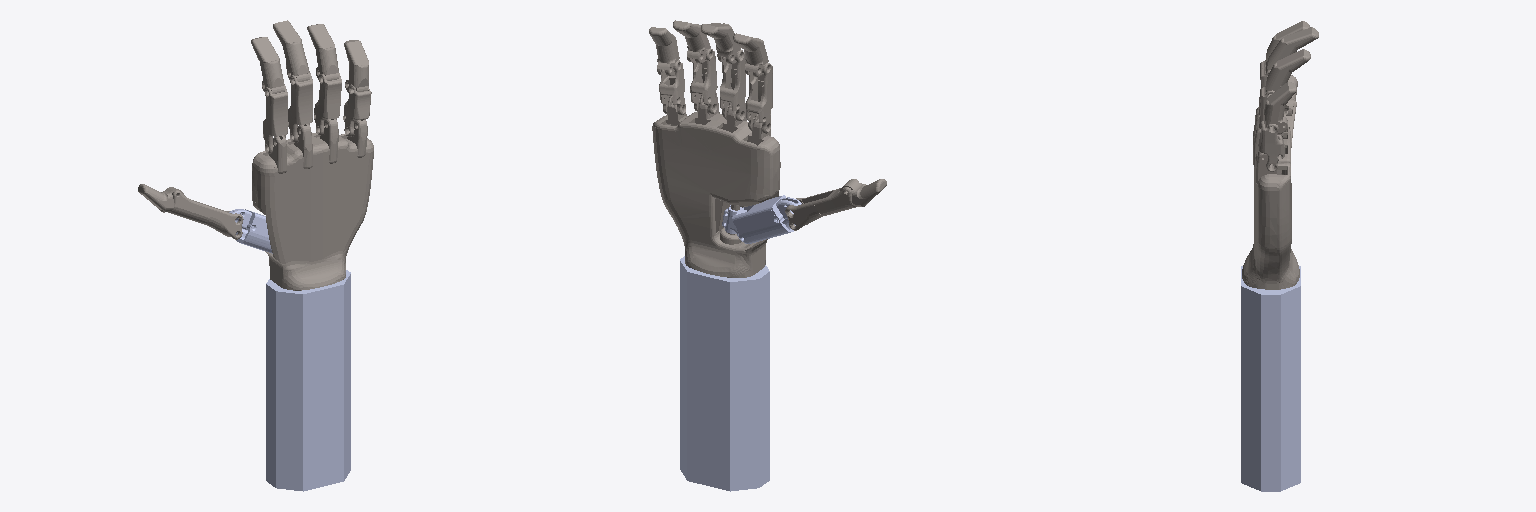
robot.urdf — EZARM_SLDASM:
<?xml version="1.0" encoding="utf-8"?>
<!-- This URDF was automatically created by SolidWorks to URDF Exporter! Originally created by [author] ([email redacted]) 
     Commit Version: 1.6.0-4-g7f85cfe  Build Version: 1.6.7995.38578
     For more information, please see http://wiki.ros.org/sw_urdf_exporter -->
<robot
  name="EZARM_SLDASM">
  <link
    name="base_link">
    <inertial>
      <origin
        xyz="-2.36122762587781E-18 -3.93537937646302E-19 0.0815294256931801"
        rpy="0 0 0" />
      <mass
        value="0.403566371669411" />
      <inertia
        ixx="0.000951289819173348"
        ixy="-1.07533479631894E-19"
        ixz="-5.25984835922691E-20"
        iyy="0.00100569106917335"
        iyz="-8.08622793432171E-21"
        izz="0.000168552823672512" />
    </inertial>
    <visual>
      <origin
        xyz="0 0 0"
        rpy="0 0 0" />
      <geometry>
        <mesh
          filename="package://EZARM_SLDASM/meshes/base_link.STL" />
      </geometry>
      <material
        name="">
        <color
          rgba="0.792156862745098 0.819607843137255 0.933333333333333 1" />
      </material>
    </visual>
    <collision>
      <origin
        xyz="0 0 0"
        rpy="0 0 0" />
      <geometry>
        <mesh
          filename="package://EZARM_SLDASM/meshes/base_link.STL" />
      </geometry>
    </collision>
  </link>
  <link
    name="palm_link">
    <inertial>
      <origin
        xyz="0.000137638473861338 -0.00428767568752875 0.0545058625065118"
        rpy="0 0 0" />
      <mass
        value="0.0765362216961075" />
      <inertia
        ixx="0.000161080254530765"
        ixy="5.25642766934462E-08"
        ixz="-1.1122683473908E-06"
        iyy="0.000115373426183941"
        iyz="4.62313329070689E-06"
        izz="4.92288030967418E-05" />
    </inertial>
    <visual>
      <origin
        xyz="0 0 0"
        rpy="0 0 0" />
      <geometry>
        <mesh
          filename="package://EZARM_SLDASM/meshes/palm_link.STL" />
      </geometry>
      <material
        name="">
        <color
          rgba="0.647058823529412 0.619607843137255 0.6 1" />
      </material>
    </visual>
    <collision>
      <origin
        xyz="0 0 0"
        rpy="0 0 0" />
      <geometry>
        <mesh
          filename="package://EZARM_SLDASM/meshes/palm_link.STL" />
      </geometry>
    </collision>
  </link>
  <joint
    name="palm_joint"
    type="revolute">
    <origin
      xyz="0 0 0.168"
      rpy="0 0 1.5708" />
    <parent
      link="base_link" />
    <child
      link="palm_link" />
    <axis
      xyz="0 0 1" />
    <limit
      lower="0"
      upper="3.14159"
      effort="100"
      velocity="100" />
  </joint>
  <link
    name="pinky_link">
    <inertial>
      <origin
        xyz="0.0017820549626365 -0.000613293176069961 0.0163336690442433"
        rpy="0 0 0" />
      <mass
        value="0.00284841498916435" />
      <inertia
        ixx="2.89069230552967E-07"
        ixy="2.30953150442523E-09"
        ixz="-1.78553709799799E-08"
        iyy="2.99964229191471E-07"
        iyz="2.91987211415557E-08"
        izz="1.49822130411684E-07" />
    </inertial>
    <visual>
      <origin
        xyz="0 0 0"
        rpy="0 0 0" />
      <geometry>
        <mesh
          filename="package://EZARM_SLDASM/meshes/pinky_link.STL" />
      </geometry>
      <material
        name="">
        <color
          rgba="0.647058823529412 0.619607843137255 0.6 1" />
      </material>
    </visual>
    <collision>
      <origin
        xyz="0 0 0"
        rpy="0 0 0" />
      <geometry>
        <mesh
          filename="package://EZARM_SLDASM/meshes/pinky_link.STL" />
      </geometry>
    </collision>
  </link>
  <joint
    name="pinky_joint"
    type="revolute">
    <origin
      xyz="0.00053238 -0.04071 0.10826"
      rpy="0 0 -1.5708" />
    <parent
      link="palm_link" />
    <child
      link="pinky_link" />
    <axis
      xyz="1 0 0" />
    <limit
      lower="-1.5708"
      upper="0"
      effort="100"
      velocity="100" />
  </joint>
  <link
    name="pinky_mimic_link">
    <inertial>
      <origin
        xyz="0.001108703721593 0.0045741665917135 0.014620949600652"
        rpy="0 0 0" />
      <mass
        value="0.00562690939472701" />
      <inertia
        ixx="7.101549995922E-07"
        ixy="-9.17469905740974E-09"
        ixz="-3.71039596021405E-08"
        iyy="6.30896238954216E-07"
        iyz="-1.56604741692031E-07"
        izz="2.30295778229682E-07" />
    </inertial>
    <visual>
      <origin
        xyz="0 0 0"
        rpy="0 0 0" />
      <geometry>
        <mesh
          filename="package://EZARM_SLDASM/meshes/pinky_mimic_link.STL" />
      </geometry>
      <material
        name="">
        <color
          rgba="0.647058823529412 0.619607843137255 0.6 1" />
      </material>
    </visual>
    <collision>
      <origin
        xyz="0 0 0"
        rpy="0 0 0" />
      <geometry>
        <mesh
          filename="package://EZARM_SLDASM/meshes/pinky_mimic_link.STL" />
      </geometry>
    </collision>
  </link>
  <joint
    name="pinky_mimic_joint"
    type="revolute">
    <origin
      xyz="0.0034275 0.00025066 0.032821"
      rpy="0 0 0" />
    <parent
      link="pinky_link" />
    <child
      link="pinky_mimic_link" />
    <axis
      xyz="1 0 0" />
    <limit
      lower="-3.14159"
      upper="3.14159"
      effort="100"
      velocity="100" />
    <mimic
      joint="pinky_joint"
      multiplier="1"
      offset="0" />
  </joint>
  <link
    name="ring_link">
    <inertial>
      <origin
        xyz="0.00142294173005185 -0.00129072154615227 0.0203579955343289"
        rpy="0 0 0" />
      <mass
        value="0.00382261211395928" />
      <inertia
        ixx="5.5202198701161E-07"
        ixy="5.14714557279812E-09"
        ixz="-2.55389597661868E-08"
        iyy="5.69468033035362E-07"
        iyz="7.35455548545626E-08"
        izz="1.87705913426682E-07" />
    </inertial>
    <visual>
      <origin
        xyz="0 0 0"
        rpy="0 0 0" />
      <geometry>
        <mesh
          filename="package://EZARM_SLDASM/meshes/ring_link.STL" />
      </geometry>
      <material
        name="">
        <color
          rgba="0.647058823529412 0.619607843137255 0.6 1" />
      </material>
    </visual>
    <collision>
      <origin
        xyz="0 0 0"
        rpy="0 0 0" />
      <geometry>
        <mesh
          filename="package://EZARM_SLDASM/meshes/ring_link.STL" />
      </geometry>
    </collision>
  </link>
  <joint
    name="ring_joint"
    type="revolute">
    <origin
      xyz="0.00016823 -0.01558 0.11536"
      rpy="0 0 -1.5708" />
    <parent
      link="palm_link" />
    <child
      link="ring_link" />
    <axis
      xyz="1 0 0" />
    <limit
      lower="-1.48353"
      upper="0"
      effort="100"
      velocity="100" />
  </joint>
  <link
    name="ring_mimic_link">
    <inertial>
      <origin
        xyz="0.00114593130837312 0.00971703582685566 0.0156976568866269"
        rpy="0 0 0" />
      <mass
        value="0.00635546550003613" />
      <inertia
        ixx="9.81246469917228E-07"
        ixy="-2.51179183410803E-08"
        ixz="-3.63935893335392E-08"
        iyy="6.8606976657274E-07"
        iyz="-3.59092627396867E-07"
        izz="4.6569199688549E-07" />
    </inertial>
    <visual>
      <origin
        xyz="0 0 0"
        rpy="0 0 0" />
      <geometry>
        <mesh
          filename="package://EZARM_SLDASM/meshes/ring_mimic_link.STL" />
      </geometry>
      <material
        name="">
        <color
          rgba="0.647058823529412 0.619607843137255 0.6 1" />
      </material>
    </visual>
    <collision>
      <origin
        xyz="0 0 0"
        rpy="0 0 0" />
      <geometry>
        <mesh
          filename="package://EZARM_SLDASM/meshes/ring_mimic_link.STL" />
      </geometry>
    </collision>
  </link>
  <joint
    name="ring_mimic_joint"
    type="revolute">
    <origin
      xyz="0.00286 0 0.0409"
      rpy="0 0 0" />
    <parent
      link="ring_link" />
    <child
      link="ring_mimic_link" />
    <axis
      xyz="1 0 0" />
    <limit
      lower="-3.14159"
      upper="3.14159"
      effort="100"
      velocity="100" />
    <mimic
      joint="ring_joint"
      multiplier="1"
      offset="0" />
  </joint>
  <link
    name="middle_link">
    <inertial>
      <origin
        xyz="0.00040561519406054 -0.00143109939675033 0.0232048672174193"
        rpy="0 0 0" />
      <mass
        value="0.00435101487895161" />
      <inertia
        ixx="7.37234099557229E-07"
        ixy="1.59808182059263E-09"
        ixz="-9.37016819913441E-09"
        iyy="7.60393826704403E-07"
        iyz="9.11626914346312E-08"
        izz="2.06162513305201E-07" />
    </inertial>
    <visual>
      <origin
        xyz="0 0 0"
        rpy="0 0 0" />
      <geometry>
        <mesh
          filename="package://EZARM_SLDASM/meshes/middle_link.STL" />
      </geometry>
      <material
        name="">
        <color
          rgba="0.647058823529412 0.619607843137255 0.6 1" />
      </material>
    </visual>
    <collision>
      <origin
        xyz="0 0 0"
        rpy="0 0 0" />
      <geometry>
        <mesh
          filename="package://EZARM_SLDASM/meshes/middle_link.STL" />
      </geometry>
    </collision>
  </link>
  <joint
    name="middle_joint"
    type="revolute">
    <origin
      xyz="0.00016823 0.0072093 0.11515"
      rpy="0 0 -1.5708" />
    <parent
      link="palm_link" />
    <child
      link="middle_link" />
    <axis
      xyz="1 0 0" />
    <limit
      lower="-1.48353"
      upper="0"
      effort="100"
      velocity="100" />
  </joint>
  <link
    name="middle_mimic_link">
    <inertial>
      <origin
        xyz="0.000345295830107457 0.0127273362711506 0.017012076660915"
        rpy="0 0 0" />
      <mass
        value="0.00710270866127889" />
      <inertia
        ixx="1.29588990900105E-06"
        ixy="-9.12339135108535E-09"
        ixz="-1.07891576281314E-08"
        iyy="7.9717380163647E-07"
        iyz="-5.20228611199478E-07"
        izz="6.88150500246118E-07" />
    </inertial>
    <visual>
      <origin
        xyz="0 0 0"
        rpy="0 0 0" />
      <geometry>
        <mesh
          filename="package://EZARM_SLDASM/meshes/middle_mimic_link.STL" />
      </geometry>
      <material
        name="">
        <color
          rgba="0.647058823529412 0.619607843137255 0.6 1" />
      </material>
    </visual>
    <collision>
      <origin
        xyz="0 0 0"
        rpy="0 0 0" />
      <geometry>
        <mesh
          filename="package://EZARM_SLDASM/meshes/middle_mimic_link.STL" />
      </geometry>
    </collision>
  </link>
  <joint
    name="middle_mimic_joint"
    type="revolute">
    <origin
      xyz="0.00080281 0 0.045993"
      rpy="0 0 0" />
    <parent
      link="middle_link" />
    <child
      link="middle_mimic_link" />
    <axis
      xyz="1 0 0" />
    <limit
      lower="-3.14159"
      upper="3.14159"
      effort="100"
      velocity="100" />
    <mimic
      joint="middle_joint"
      multiplier="1"
      offset="0" />
  </joint>
  <link
    name="pointer_link">
    <inertial>
      <origin
        xyz="-4.46665277924196E-08 -0.0014597840450139 0.0231866899386781"
        rpy="0 0 0" />
      <mass
        value="0.00430054577129335" />
      <inertia
        ixx="7.26809156394049E-07"
        ixy="-5.764573167025E-12"
        ixz="-3.33068282933426E-12"
        iyy="7.51246448794758E-07"
        iyz="8.87861916234826E-08"
        izz="2.02703110164293E-07" />
    </inertial>
    <visual>
      <origin
        xyz="0 0 0"
        rpy="0 0 0" />
      <geometry>
        <mesh
          filename="package://EZARM_SLDASM/meshes/pointer_link.STL" />
      </geometry>
      <material
        name="">
        <color
          rgba="0.647058823529412 0.619607843137255 0.6 1" />
      </material>
    </visual>
    <collision>
      <origin
        xyz="0 0 0"
        rpy="0 0 0" />
      <geometry>
        <mesh
          filename="package://EZARM_SLDASM/meshes/pointer_link.STL" />
      </geometry>
    </collision>
  </link>
  <joint
    name="pointer_joint"
    type="revolute">
    <origin
      xyz="0.00016729 0.028465 0.1106"
      rpy="0 0 -1.5708" />
    <parent
      link="palm_link" />
    <child
      link="pointer_link" />
    <axis
      xyz="1 0 0" />
    <limit
      lower="-1.5708"
      upper="0"
      effort="100"
      velocity="100" />
  </joint>
  <link
    name="pointer_mimic_link">
    <inertial>
      <origin
        xyz="4.83338837181067E-05 0.0094810874779204 0.0159732580922908"
        rpy="0 0 0" />
      <mass
        value="0.00632636073888433" />
      <inertia
        ixx="9.74252336731948E-07"
        ixy="-7.16546854696862E-12"
        ixz="-1.51928793858106E-10"
        iyy="6.89677632645022E-07"
        iyz="-3.53352679409106E-07"
        izz="4.49289688683031E-07" />
    </inertial>
    <visual>
      <origin
        xyz="0 0 0"
        rpy="0 0 0" />
      <geometry>
        <mesh
          filename="package://EZARM_SLDASM/meshes/pointer_mimic_link.STL" />
      </geometry>
      <material
        name="">
        <color
          rgba="0.647058823529412 0.619607843137255 0.6 1" />
      </material>
    </visual>
    <collision>
      <origin
        xyz="0 0 0"
        rpy="0 0 0" />
      <geometry>
        <mesh
          filename="package://EZARM_SLDASM/meshes/pointer_mimic_link.STL" />
      </geometry>
    </collision>
  </link>
  <joint
    name="pointer_mimic_joint"
    type="revolute">
    <origin
      xyz="0 0 0.046"
      rpy="0 0 0" />
    <parent
      link="pointer_link" />
    <child
      link="pointer_mimic_link" />
    <axis
      xyz="1 0 0" />
    <limit
      lower="-3.14159"
      upper="3.14159"
      effort="100"
      velocity="100" />
    <mimic
      joint="pointer_joint"
      multiplier="1"
      offset="0" />
  </joint>
  <link
    name="thumb_swivel_link">
    <inertial>
      <origin
        xyz="-0.0240609552040626 0.000537100663146885 0.00573428571376206"
        rpy="0 0 0" />
      <mass
        value="0.00807597668556131" />
      <inertia
        ixx="1.08043710320532E-06"
        ixy="1.68624171132001E-07"
        ixz="1.08772170504102E-06"
        iyy="3.03147252079576E-06"
        iyz="-1.34639716373521E-07"
        izz="2.48856447081332E-06" />
    </inertial>
    <visual>
      <origin
        xyz="0 0 0"
        rpy="0 0 0" />
      <geometry>
        <mesh
          filename="package://EZARM_SLDASM/meshes/thumb_swivel_link.STL" />
      </geometry>
      <material
        name="">
        <color
          rgba="0.792156862745098 0.819607843137255 0.933333333333333 1" />
      </material>
    </visual>
    <collision>
      <origin
        xyz="0 0 0"
        rpy="0 0 0" />
      <geometry>
        <mesh
          filename="package://EZARM_SLDASM/meshes/thumb_swivel_link.STL" />
      </geometry>
    </collision>
  </link>
  <joint
    name="thumb_swivel_joint"
    type="revolute">
    <origin
      xyz="0.0022482 0.0086241 0.033795"
      rpy="0 0 -1.5708" />
    <parent
      link="palm_link" />
    <child
      link="thumb_swivel_link" />
    <axis
      xyz="0 0 1" />
    <limit
      lower="-1.39626"
      upper="0"
      effort="100"
      velocity="100" />
  </joint>
  <link
    name="thumb_link">
    <inertial>
      <origin
        xyz="0.0256273064262082 -0.00431444754602431 4.34295689258346E-07"
        rpy="0 0 0" />
      <mass
        value="0.00621086328026103" />
      <inertia
        ixx="3.16321134231842E-07"
        ixy="-1.30190480627785E-07"
        ixz="1.58690548652609E-11"
        iyy="2.36922113077845E-06"
        iyz="-8.246517082752E-12"
        izz="2.34094726755801E-06" />
    </inertial>
    <visual>
      <origin
        xyz="0 0 0"
        rpy="0 0 0" />
      <geometry>
        <mesh
          filename="package://EZARM_SLDASM/meshes/thumb_link.STL" />
      </geometry>
      <material
        name="">
        <color
          rgba="0.647058823529412 0.619607843137255 0.6 1" />
      </material>
    </visual>
    <collision>
      <origin
        xyz="0 0 0"
        rpy="0 0 0" />
      <geometry>
        <mesh
          filename="package://EZARM_SLDASM/meshes/thumb_link.STL" />
      </geometry>
    </collision>
  </link>
  <joint
    name="thumb_joint"
    type="revolute">
    <origin
      xyz="-0.052668 0.0037572 0.02242"
      rpy="1.7695 -0.48108 3.0361" />
    <parent
      link="thumb_swivel_link" />
    <child
      link="thumb_link" />
    <axis
      xyz="0 0 1" />
    <limit
      lower="0"
      upper="1.5708"
      effort="100"
      velocity="100" />
  </joint>
  <link
    name="thumb_mimic_link">
    <inertial>
      <origin
        xyz="-0.00895194995208004 -0.00630026646699922 -0.000131518860607249"
        rpy="0 0 0" />
      <mass
        value="0.00432808679097275" />
      <inertia
        ixx="1.19629651941025E-07"
        ixy="-1.00661494397318E-08"
        ixz="-3.96031076910321E-09"
        iyy="4.16050123473635E-07"
        iyz="-8.42552917910592E-11"
        izz="4.31485445387053E-07" />
    </inertial>
    <visual>
      <origin
        xyz="0 0 0"
        rpy="0 0 0" />
      <geometry>
        <mesh
          filename="package://EZARM_SLDASM/meshes/thumb_mimic_link.STL" />
      </geometry>
      <material
        name="">
        <color
          rgba="0.647058823529412 0.619607843137255 0.6 1" />
      </material>
    </visual>
    <collision>
      <origin
        xyz="0 0 0"
        rpy="0 0 0" />
      <geometry>
        <mesh
          filename="package://EZARM_SLDASM/meshes/thumb_mimic_link.STL" />
      </geometry>
    </collision>
  </link>
  <joint
    name="thumb_mimic_joint"
    type="revolute">
    <origin
      xyz="0.057532 0.0040526 0"
      rpy="-3.1416 -0.01399 3.1416" />
    <parent
      link="thumb_link" />
    <child
      link="thumb_mimic_link" />
    <axis
      xyz="0 0 1" />
    <limit
      lower="-3.14159"
      upper="3.14159"
      effort="100"
      velocity="100" />
    <mimic
      joint="thumb_joint"
      multiplier="-1"
      offset="0" />
  </joint>
</robot>

--- What the picture shows (computed from the rendered views, not written in the file) ---
3 views of the same robot in one strip: view 1: azimuth 30°, elevation 25°; view 2: azimuth 150°, elevation 25°; view 3: azimuth 270°, elevation 25° (orthographic).
Model EZARM_SLDASM with 13 links and 12 joints (12 revolute), rooted at base_link, posed all joints at 0.
Links seen in each view (by area): view 1: base_link, palm_link, thumb_link, middle_mimic_link, middle_link, pointer_link, pointer_mimic_link, ring_mimic_link, ring_link, thumb_swivel_link, pinky_mimic_link, pinky_link (+1 smaller); view 2: base_link, palm_link, thumb_swivel_link, thumb_link, middle_link, pointer_link, ring_link, pinky_mimic_link, middle_mimic_link, pinky_link, ring_mimic_link, pointer_mimic_link (+1 smaller); view 3: base_link, palm_link, pinky_mimic_link, ring_mimic_link, middle_mimic_link, pinky_link.
Boxes of the visible links, x1,y1,x2,y2 form: base_link: [266, 270, 350, 491]; palm_link: [252, 119, 373, 290]; thumb_link: [168, 190, 243, 239]; middle_mimic_link: [273, 20, 309, 82]; middle_link: [288, 73, 312, 142]; pointer_link: [263, 85, 287, 153]; pointer_mimic_link: [251, 37, 284, 93]; ring_mimic_link: [307, 24, 338, 80]; ring_link: [314, 73, 341, 135]; thumb_swivel_link: [229, 209, 272, 253]; pinky_mimic_link: [344, 40, 368, 92]; pinky_link: [343, 84, 371, 136]; base_link: [680, 256, 769, 491]; palm_link: [652, 93, 780, 277]; thumb_swivel_link: [722, 195, 801, 243]; thumb_link: [785, 179, 858, 230]; middle_link: [720, 50, 745, 120]; pointer_link: [746, 63, 772, 133]; ring_link: [690, 48, 717, 113]; pinky_mimic_link: [649, 27, 679, 75]; middle_mimic_link: [701, 23, 740, 63]; pinky_link: [659, 60, 685, 114]; ring_mimic_link: [673, 20, 710, 63]; pointer_mimic_link: [733, 33, 768, 76]; base_link: [1241, 266, 1300, 491]; palm_link: [1242, 107, 1299, 289]; pinky_mimic_link: [1264, 82, 1296, 133]; ring_mimic_link: [1266, 49, 1310, 95]; middle_mimic_link: [1266, 27, 1318, 71]; pinky_link: [1258, 121, 1284, 171].
Bounding box of the posed robot: 0.1926 × 0.0586 × 0.3642 m (x, y, z).
13 mesh visuals loaded from 13 distinct referenced files (13 binary STL).
